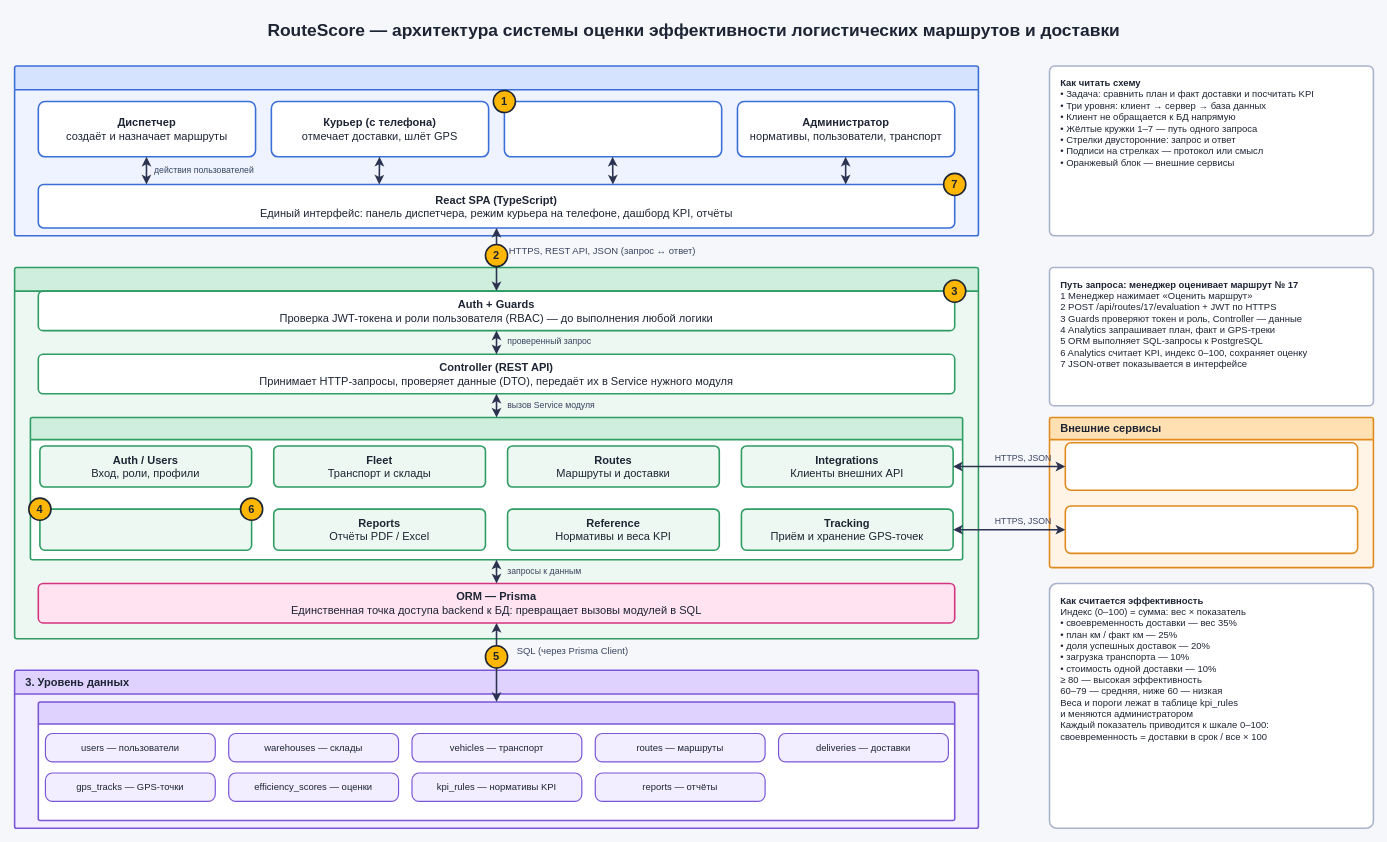
Some shapes in this 1387 by 842 pixel diagram are drawn without their labels. Here are the shapes that lost their labels. From the top down, the box of each, then its label:
(503, 100, 722, 157): Менеджер по логистике смотрит KPI и отчёты
(13, 65, 979, 236): 1. Клиентский уровень — представление (браузер, телефон)
(13, 266, 979, 639): 2. Серверный уровень — NestJS (приложение)
(1064, 442, 1358, 491): Сервис маршрутов и карт расстояние, время в пути, пробки
(29, 416, 963, 560): Модули предметных областей (Service — бизнес-логика)
(39, 508, 252, 551): Analytics KPI и индекс эффективности
(1064, 505, 1358, 554): GPS-трекеры ТС (опционально) телематика: координаты и скорость
(37, 701, 955, 821): PostgreSQL — 9 таблиц
